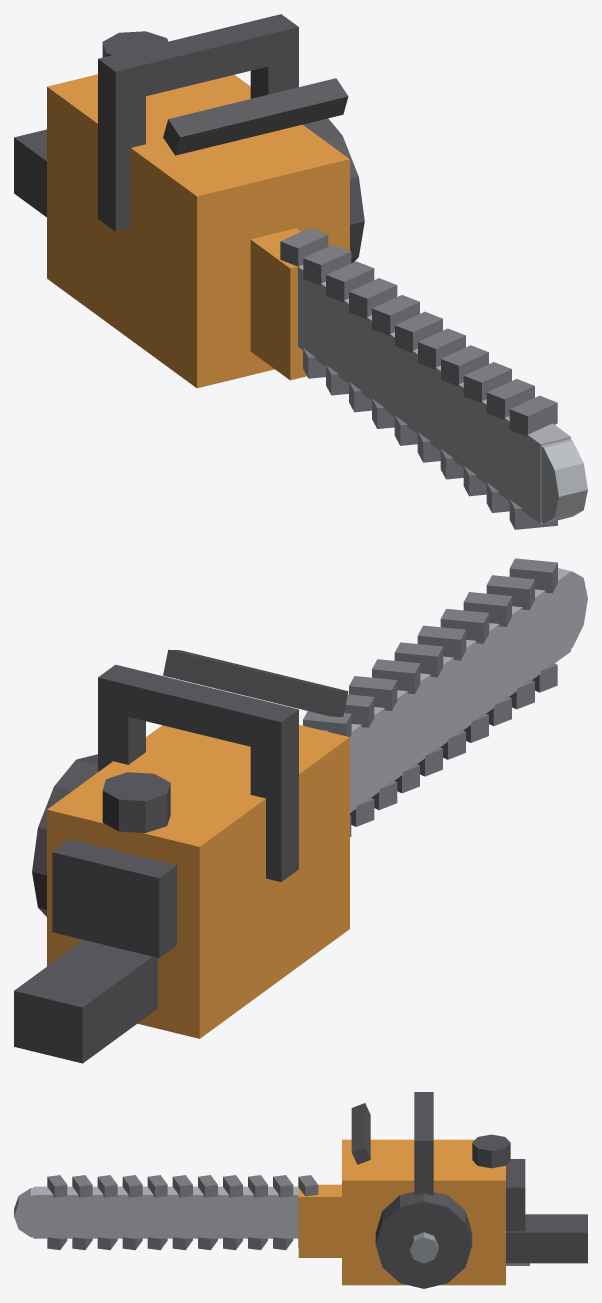
Rendered from chainsaw.glb.
3 renders of one model, top to bottom at view 1: azimuth 30°, elevation 25°; view 2: azimuth 150°, elevation 25°; view 3: azimuth 270°, elevation 25°, orthographic. The views are drawn at different scales.
Parts seen in each view (by area): view 1: chainsaw; view 2: chainsaw; view 3: chainsaw.
Boxes of the visible parts, left/top/right/bottom form: chainsaw: left=14, top=14, right=587, bottom=529; chainsaw: left=14, top=558, right=587, bottom=1063; chainsaw: left=14, top=1092, right=587, bottom=1288.
Size of the model in its own units: 0.305 by 0.34 by 1.19.
